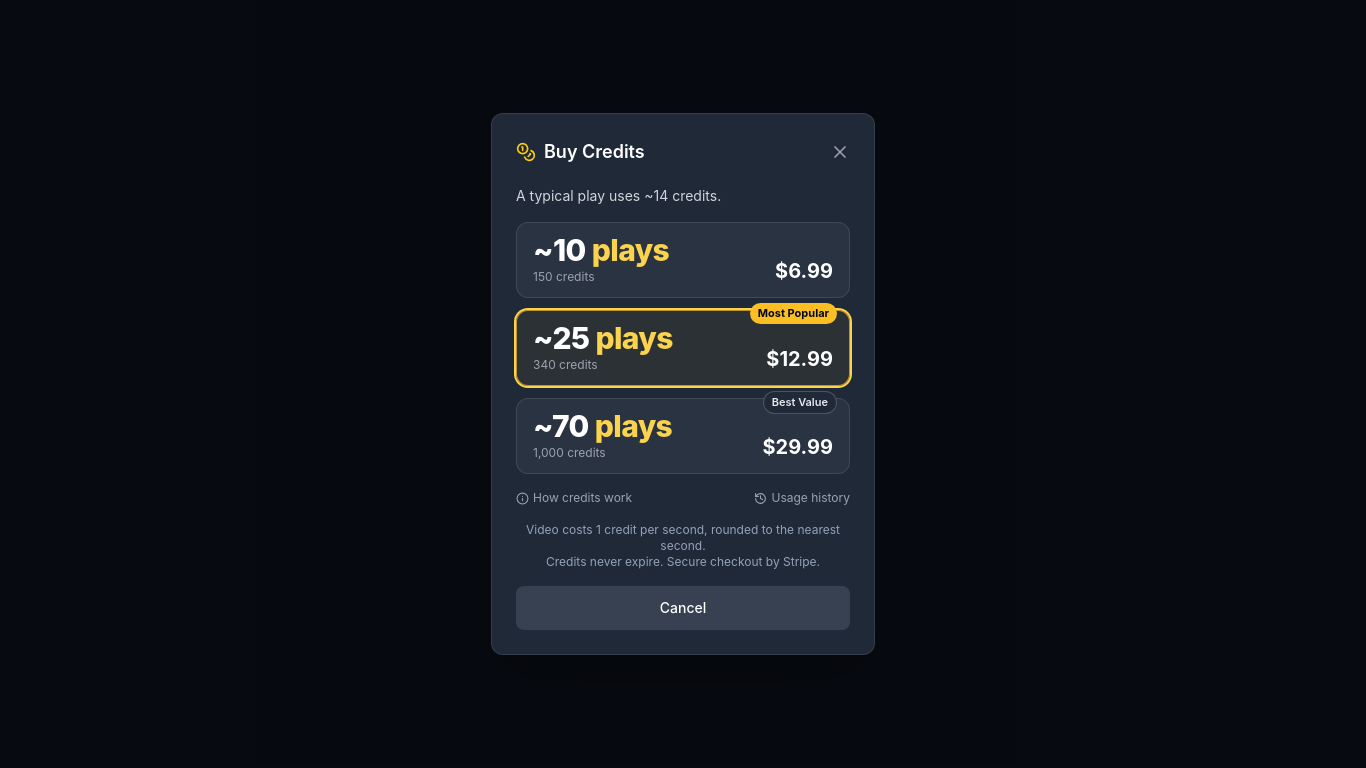
BuyCreditsModal (T4940) › explainer lists what is free
The image size is (1366, 768).
Click the button "How credits work".
click(574, 498)  # box [516,490,632,506]
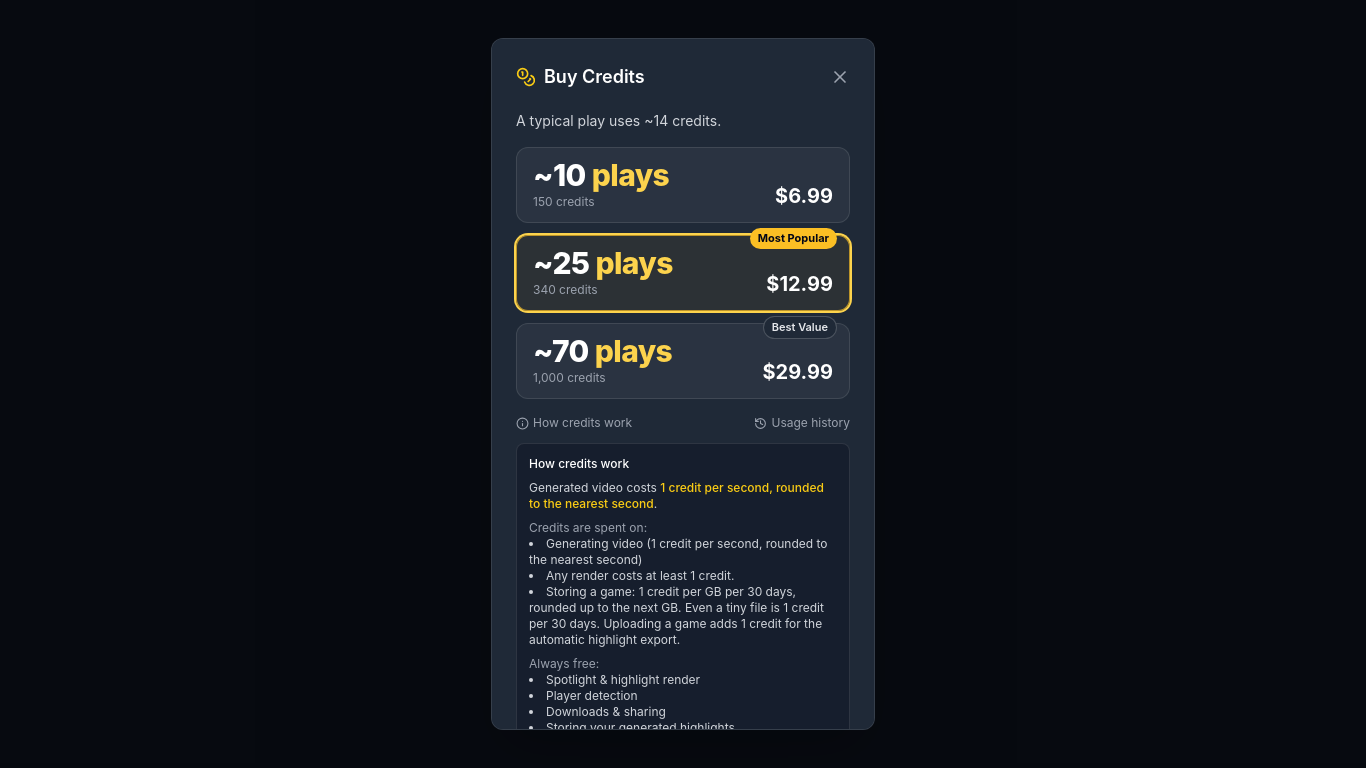
Now the text "Always free:" is shown, box [529,656,599,671]
Now the list item "Spotlight & highlight render" is shown, box [546,672,700,687]
Now the list item "Player detection" is shown, box [546,688,638,703]
